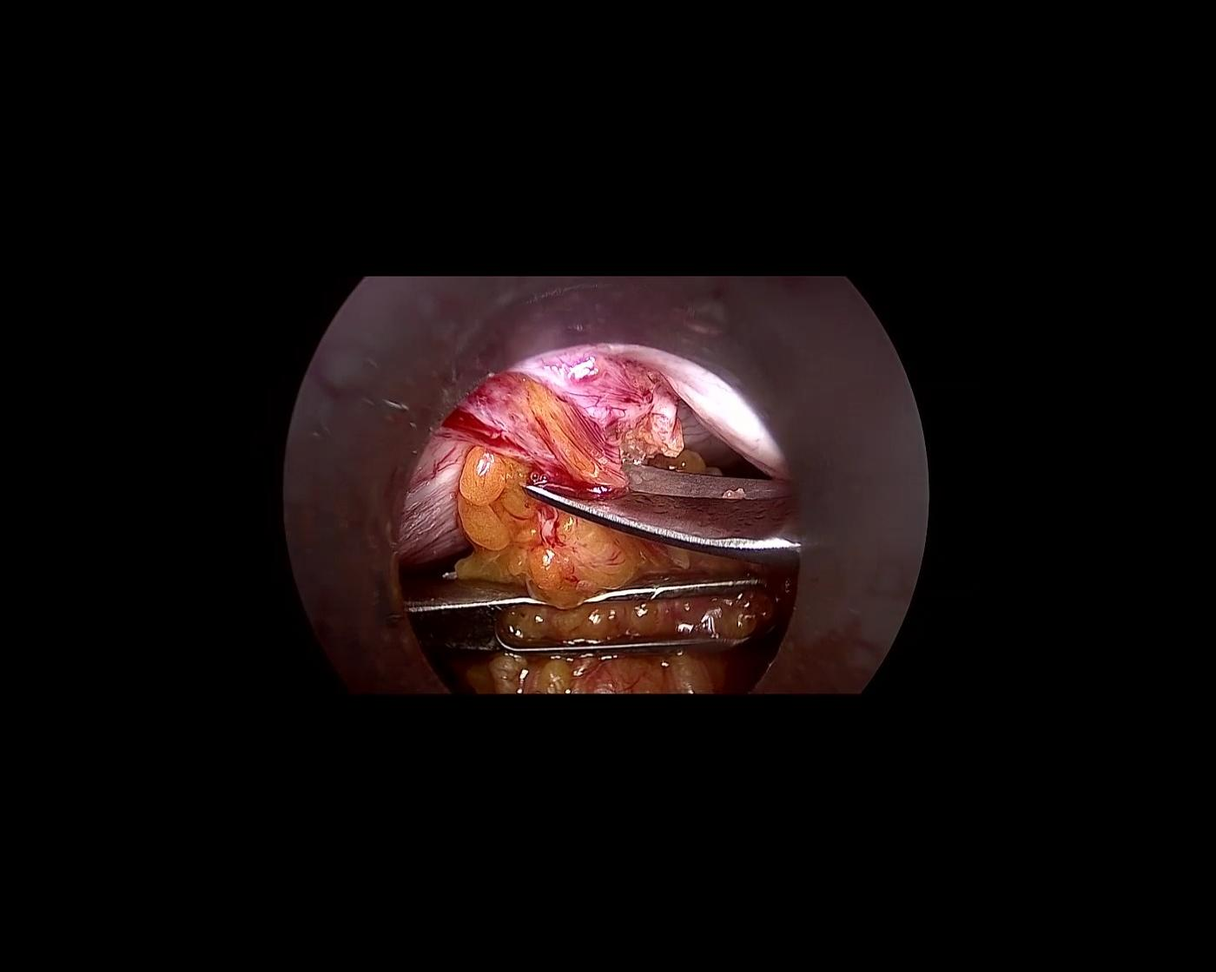Forceps: (395, 571, 797, 658)
